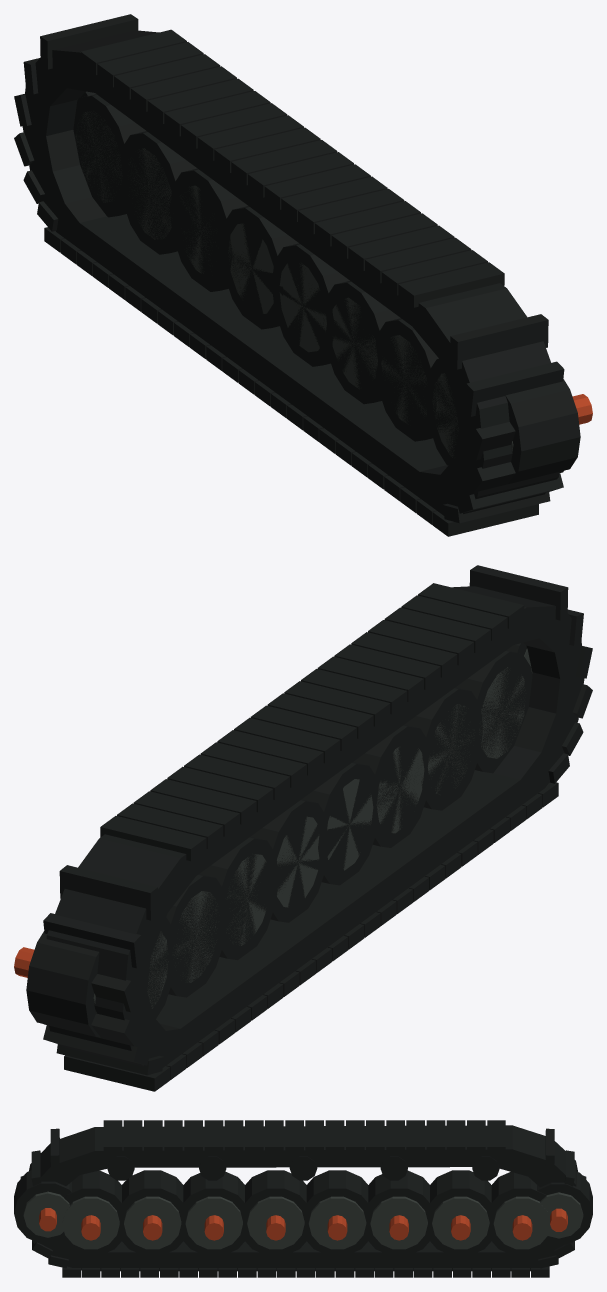
The model's file is Bastion_HT77_RightTrack.obj.
3 views of the same model, one above another, from view 1: azimuth 30°, elevation 25°; view 2: azimuth 150°, elevation 25°; view 3: azimuth 270°, elevation 25° (orthographic). The views are drawn at different scales.
Visible parts, largest first — view 1: Bastion_HT77_RightTrack; view 2: Bastion_HT77_RightTrack; view 3: Bastion_HT77_RightTrack.
Part boxes in pixels (x1,y1,x2,y2): Bastion_HT77_RightTrack: (14,14,592,536); Bastion_HT77_RightTrack: (14,565,592,1091); Bastion_HT77_RightTrack: (14,1120,592,1277).
Size of the model in its own units: 1.08 by 1.77 by 7.14.
1 material, 1 textured.
